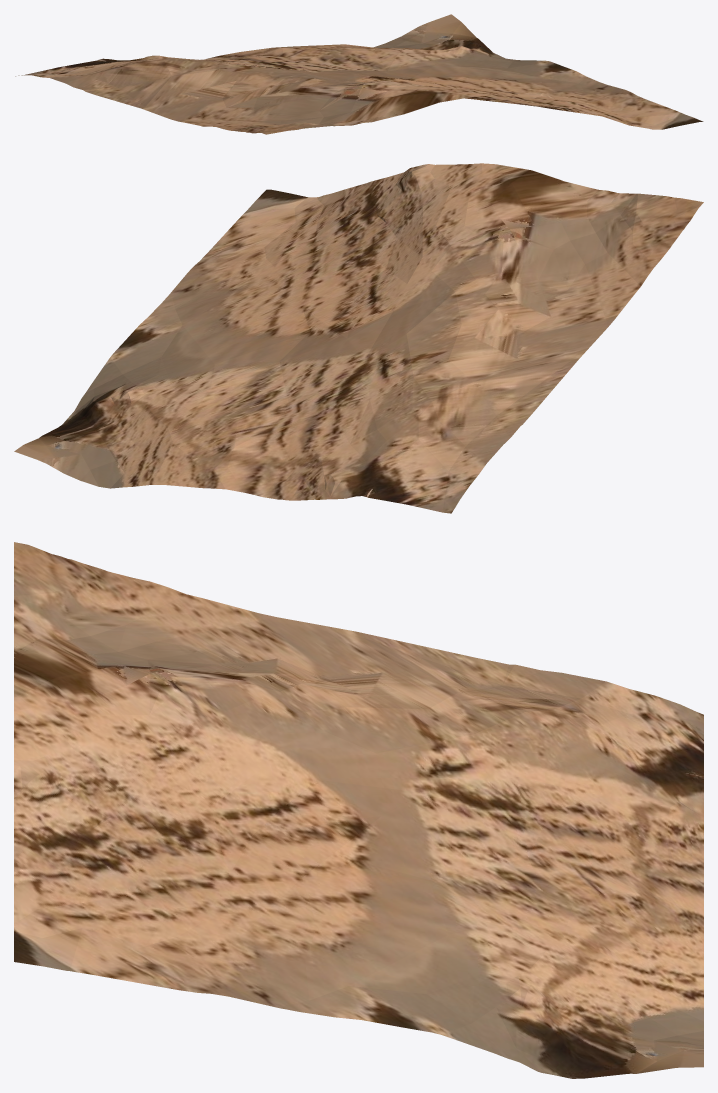
3 views of the same model, one above another, from view 1: azimuth 30°, elevation 25°; view 2: azimuth 150°, elevation 25°; view 3: azimuth 270°, elevation 25° (orthographic). The views are drawn at different scales.
Bounding box in the file's own units: 1.04 × 0.4238 × 1.04.
Materials: 3 (3 with a texture image).
